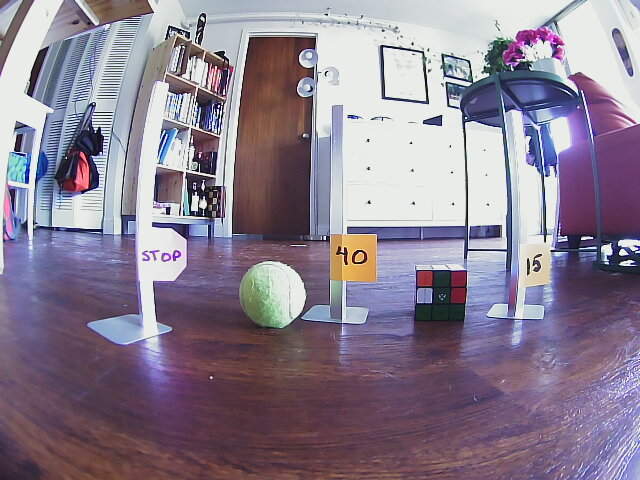15: (516, 243, 553, 287)
40: (327, 232, 380, 284)
ball: (238, 259, 311, 331)
cube: (412, 264, 469, 323)
stop: (133, 225, 188, 285)
